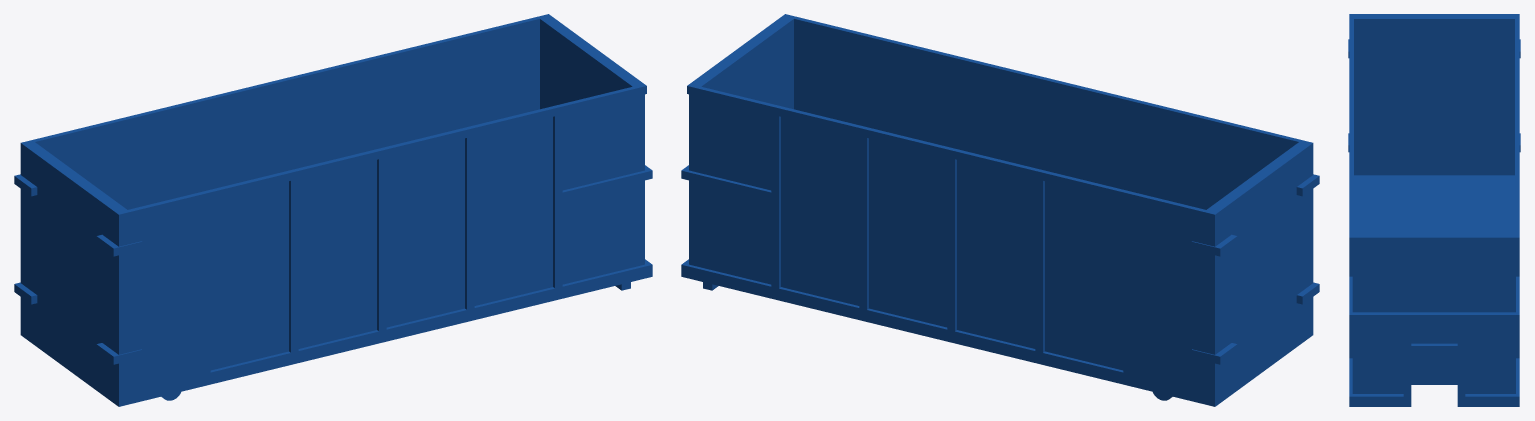
Rendered from V-Abfall-Container_dae.dae.
3 renders of one model, left to right at view 1: azimuth 30°, elevation 25°; view 2: azimuth 150°, elevation 25°; view 3: azimuth 270°, elevation 25°, orthographic. The views are drawn at different scales.
Visible parts, largest first — view 1: 32yOTpy9fFWvl4XC9R25aa; view 2: 32yOTpy9fFWvl4XC9R25aa; view 3: 32yOTpy9fFWvl4XC9R25aa.
Boxes of the visible parts, x1,y1,x2,y2 form: 32yOTpy9fFWvl4XC9R25aa: [14, 14, 652, 406]; 32yOTpy9fFWvl4XC9R25aa: [681, 14, 1319, 406]; 32yOTpy9fFWvl4XC9R25aa: [1348, 14, 1520, 406].
Size of the model in its own units: 7.16 by 2.29 by 2.54.
